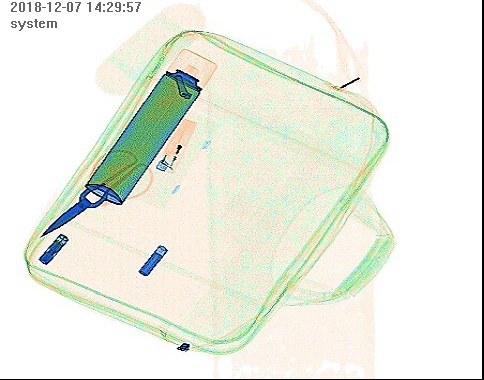lighter: (153, 113, 197, 174)
pressure: (82, 47, 218, 206)
scissors: (38, 147, 153, 236)
